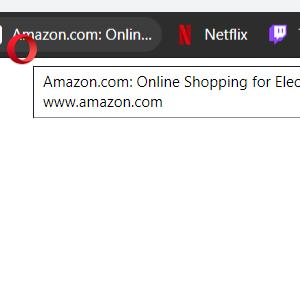opera: (7, 33, 38, 65)
